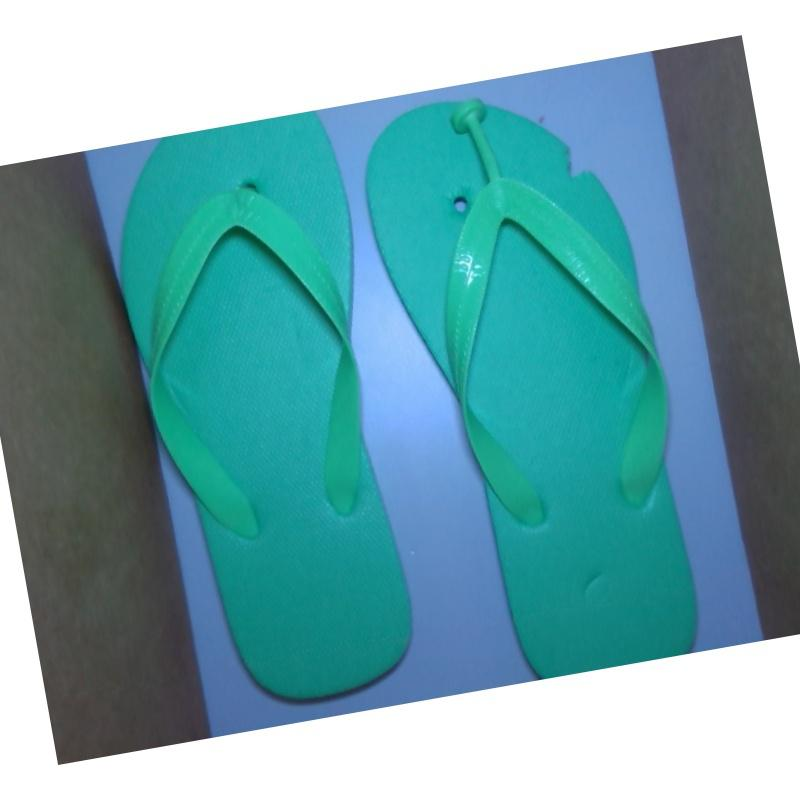chipped: (551, 131, 609, 191)
detached: (445, 91, 497, 164)
